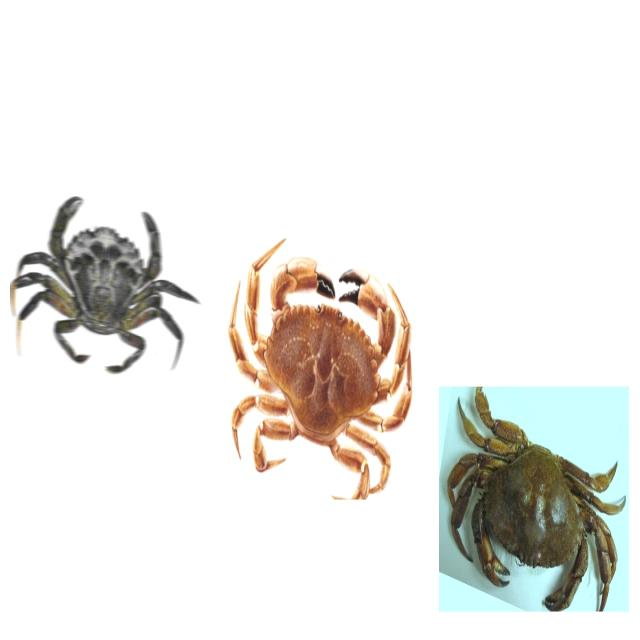egc: (11, 197, 198, 379)
jonah_crab: (228, 234, 416, 504)
rock_crab: (437, 389, 628, 618)
